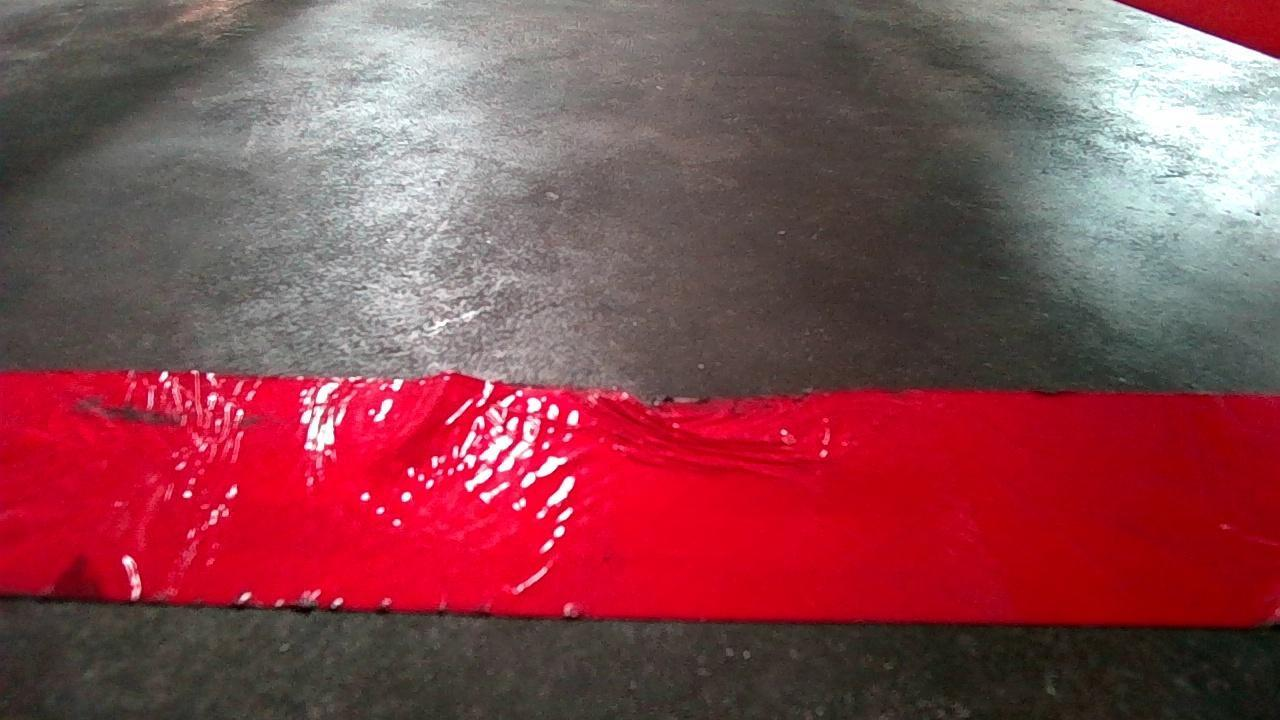h_rack: (26, 386, 1269, 626)
